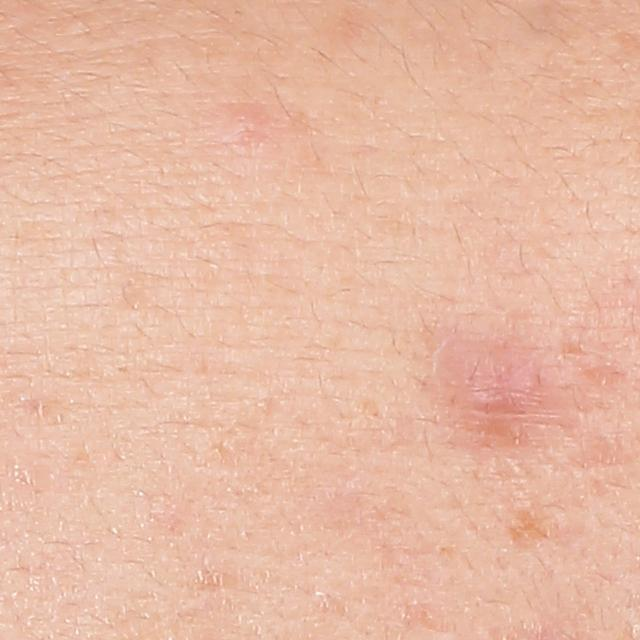papule: (462, 360, 530, 426), (226, 107, 258, 146)
